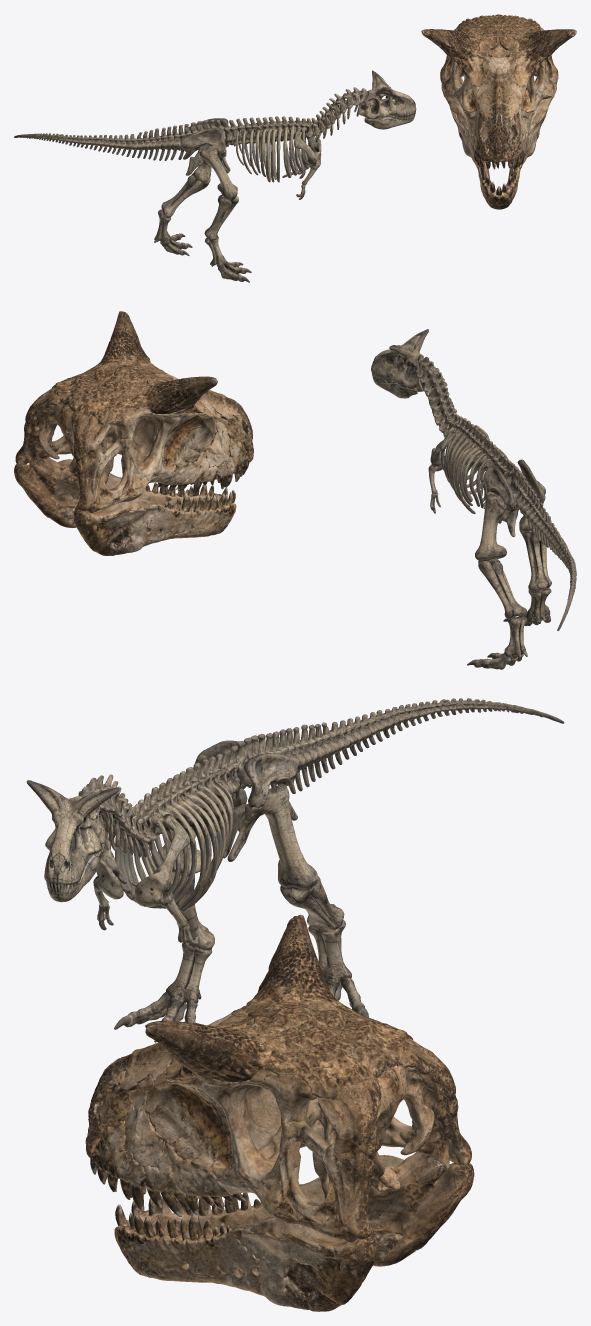
The model's file is carnotaurus.glb.
3 renders of one model, top to bottom at view 1: azimuth 30°, elevation 25°; view 2: azimuth 150°, elevation 25°; view 3: azimuth 270°, elevation 25°, orthographic. The views are drawn at different scales.
Parts seen in each view (by area): view 1: body, head; view 2: head, body; view 3: head, body.
Boxes of the visible parts, x1,y1,x2,y2 form: body: (14, 70, 416, 282); head: (421, 14, 576, 209); head: (14, 311, 253, 555); body: (371, 329, 576, 669); head: (85, 914, 474, 1311); body: (26, 698, 564, 1042).
Bounding box in the file's own units: 2.68 × 0.9534 × 1.27.
Materials: 2 (2 with a texture image).
